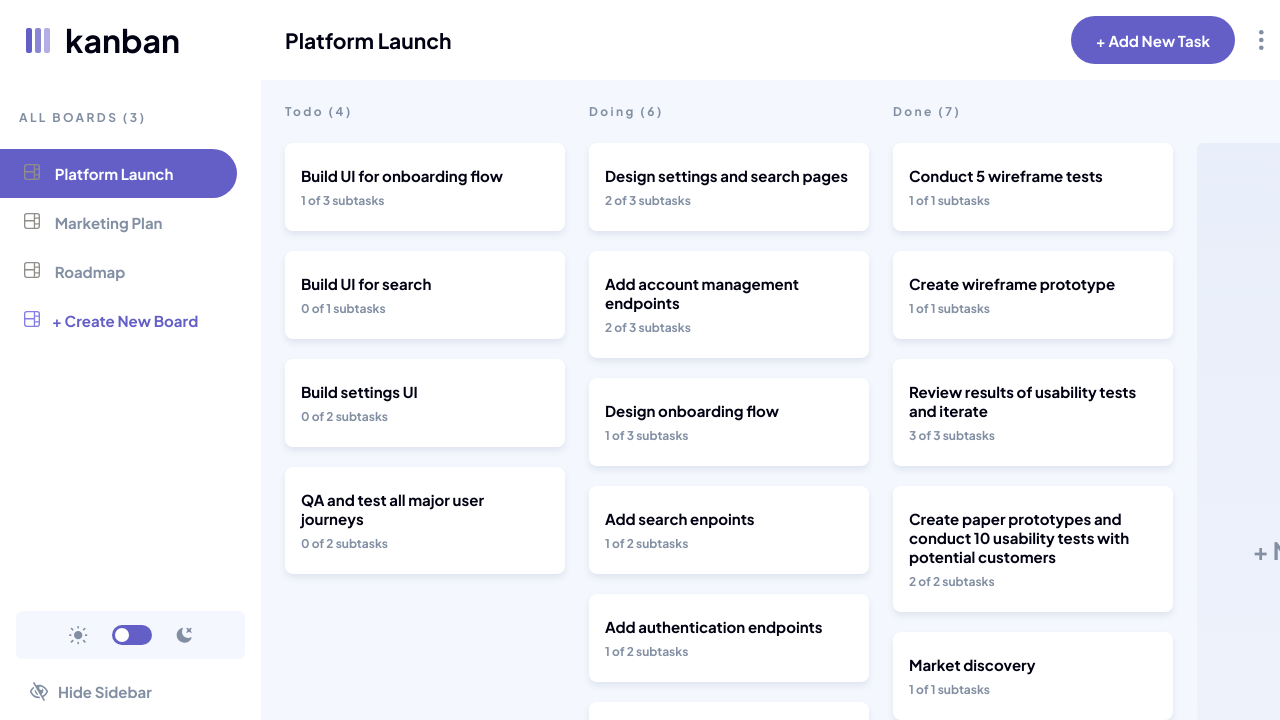
Test case: Task creation flow › Verification of the existence of elements necessary for the creation of tasks › should be a task creation form
# enter to creation form
Step 1. Click the button with test id "add-task" → click(1153, 40), box [1071, 16, 1235, 64]
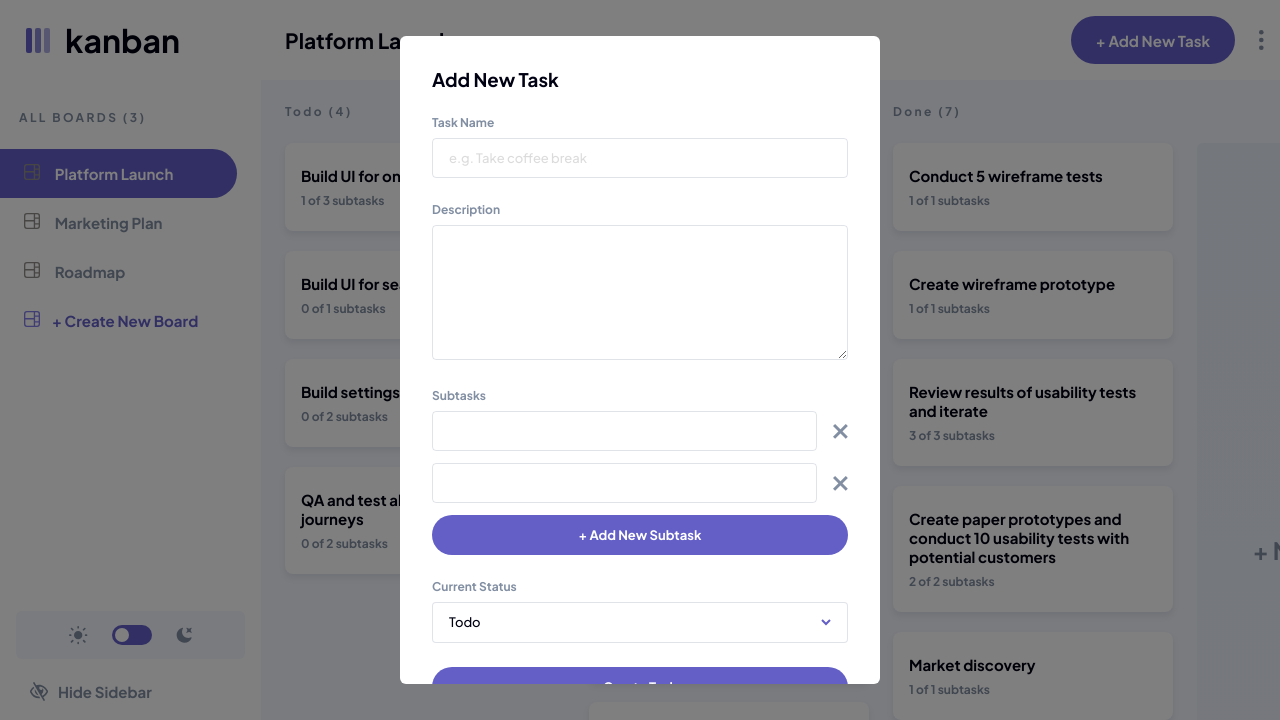
expect the button "+ Add New Subtask" is enabled: met, box [432, 515, 848, 555]
expect the button "Create Task" is enabled: met, box [432, 667, 848, 707]
